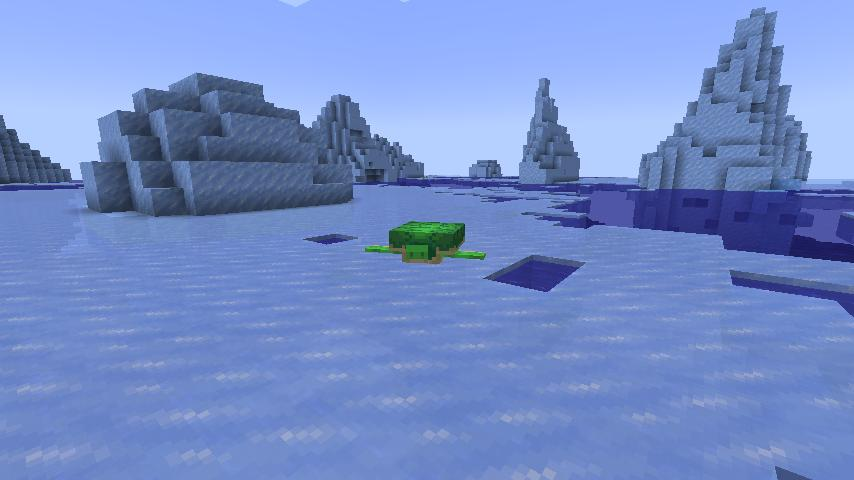turtle: (365, 218, 489, 269)
